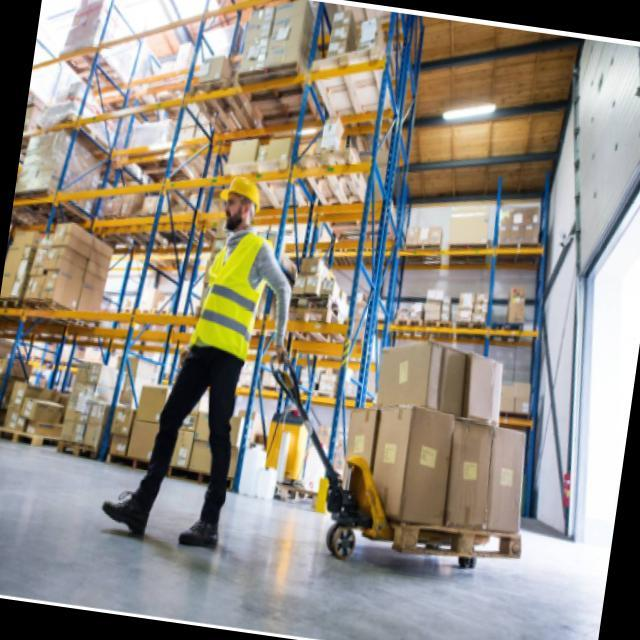boots: (94, 474, 231, 557)
helmet: (213, 170, 266, 230)
vest: (188, 223, 280, 368)
